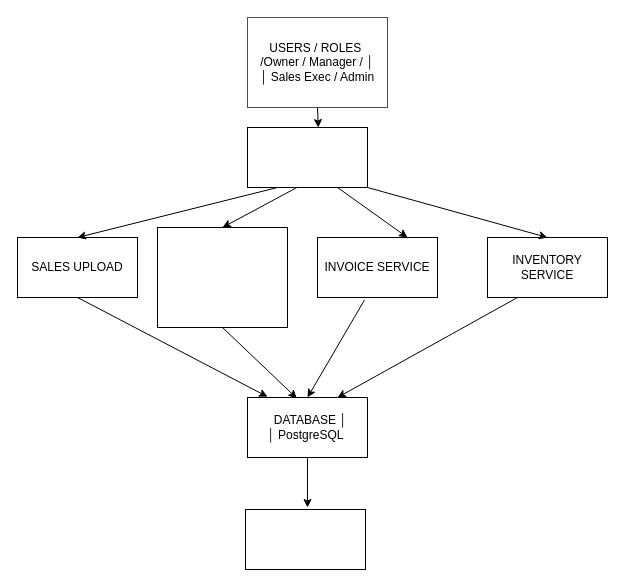
The diagram is 625 pixels wide and 587 high, and some of its shapes have lost their labels. Here are the shapes that lost their labels. From the top down, the centre of each, then its label:
the point at 307,157: API GATEWAY
the point at 222,277: AI ENGINE Forecasting Segmentation Churn Recommendations Anomaly Detection
the point at 305,539: DASHBOARD / REPORTS
